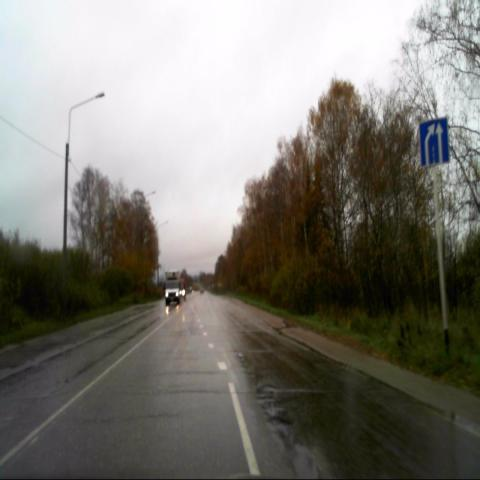5_15_5: (418, 115, 450, 167)
